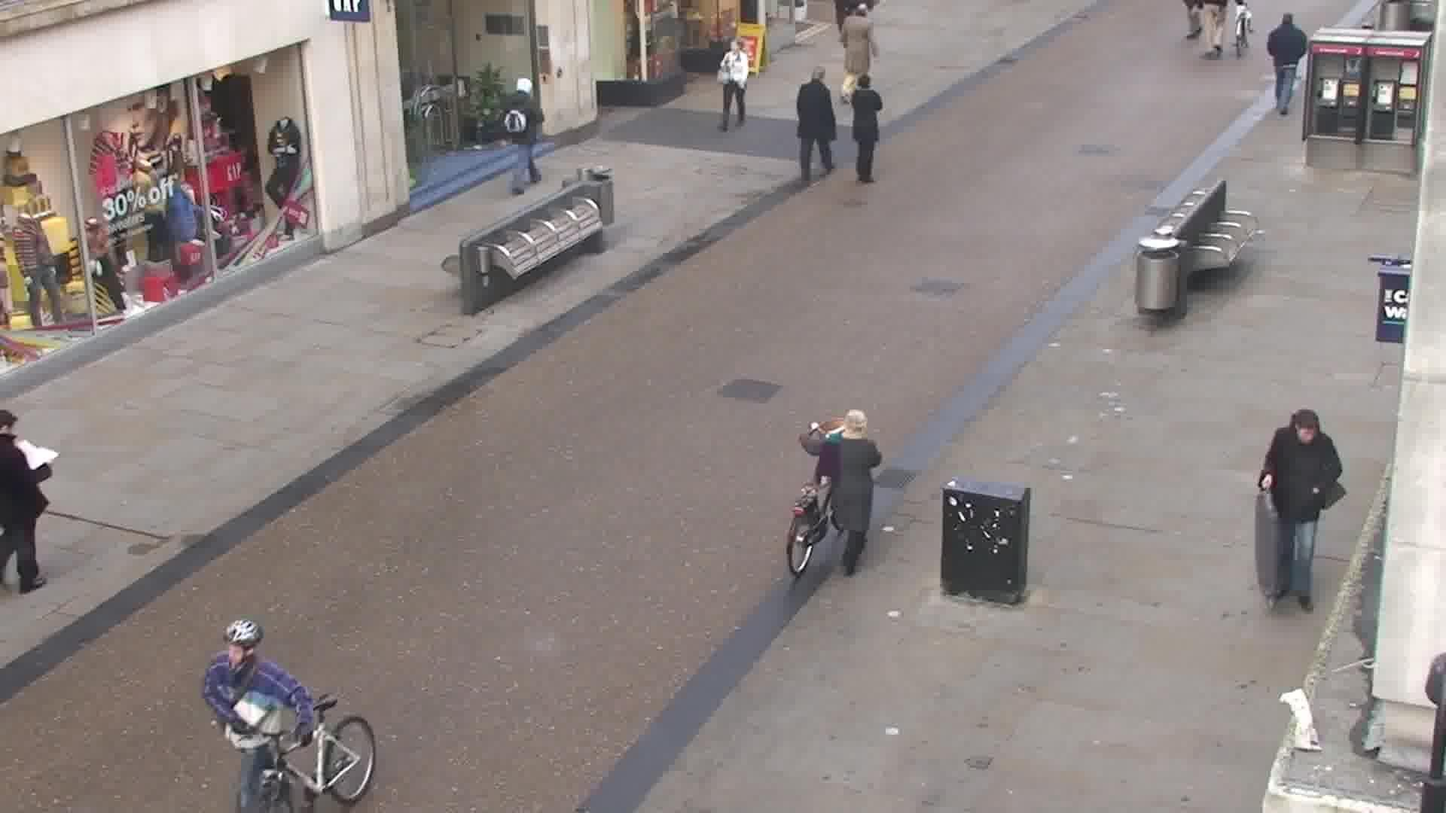car: (450, 172, 612, 315)
